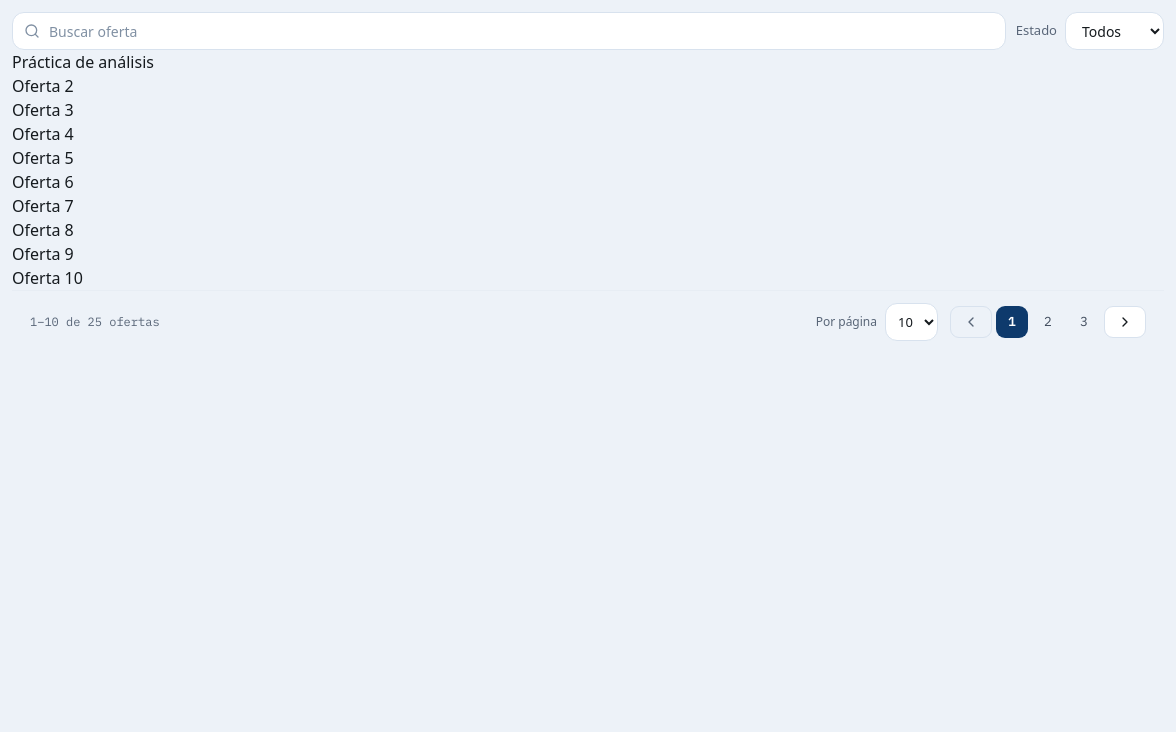
Test case: ListToolbar + Pagination + useListing › changes the page size
Select "20" in the dropdown labelled "Por página": (912, 322) [885,303,938,341]
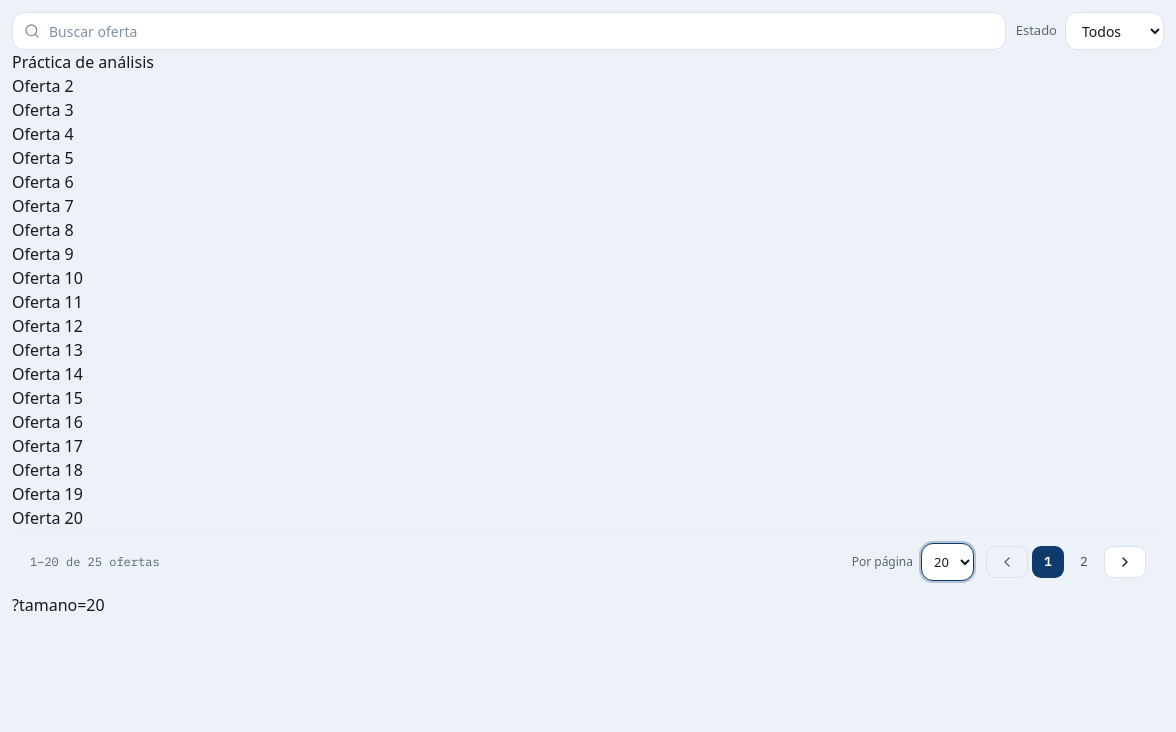
Expected: the text with test id "url" shows "tamano=20", [12,594,105,616]
